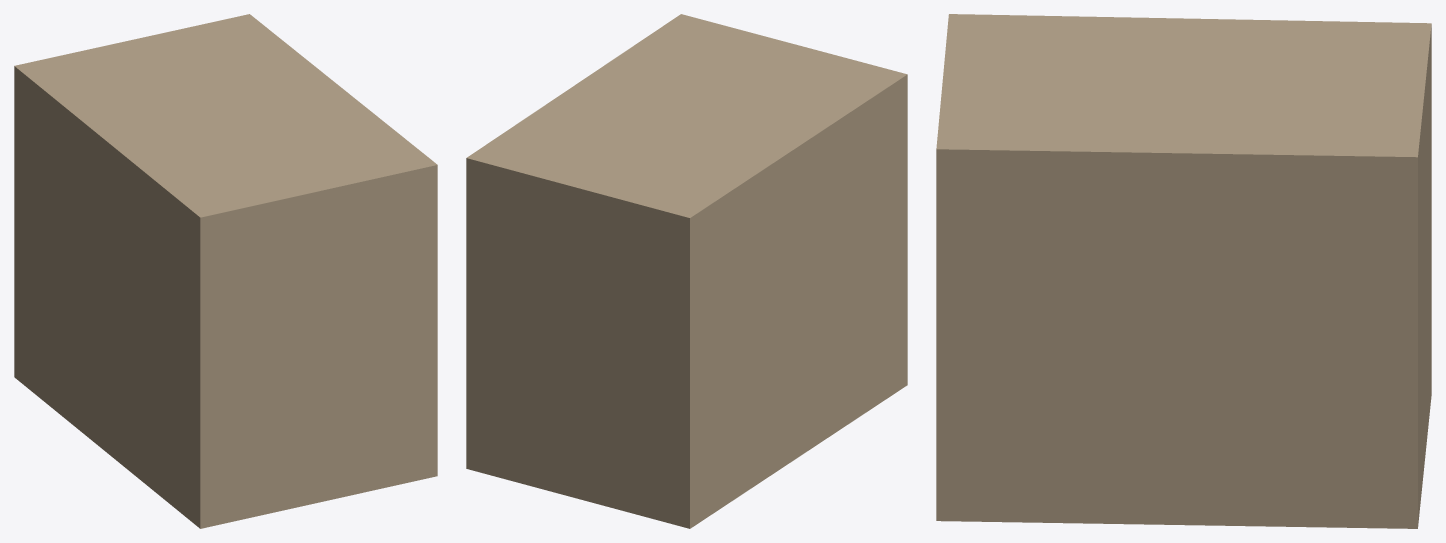
The model's file is bld_101759170.dae.
3 renders of one model, left to right at view 1: azimuth 30°, elevation 25°; view 2: azimuth 150°, elevation 25°; view 3: azimuth 270°, elevation 25°, orthographic. The views are drawn at different scales.
Parts seen in each view (by area): view 1: Mens Hair; view 2: Mens Hair; view 3: Mens Hair.
Boxes of the visible parts, <box> form: Mens Hair: <box>14,14,437,528</box>; Mens Hair: <box>466,14,907,528</box>; Mens Hair: <box>936,14,1431,528</box>.
Size of the model in its own units: 6.61 by 9.66 by 8.
